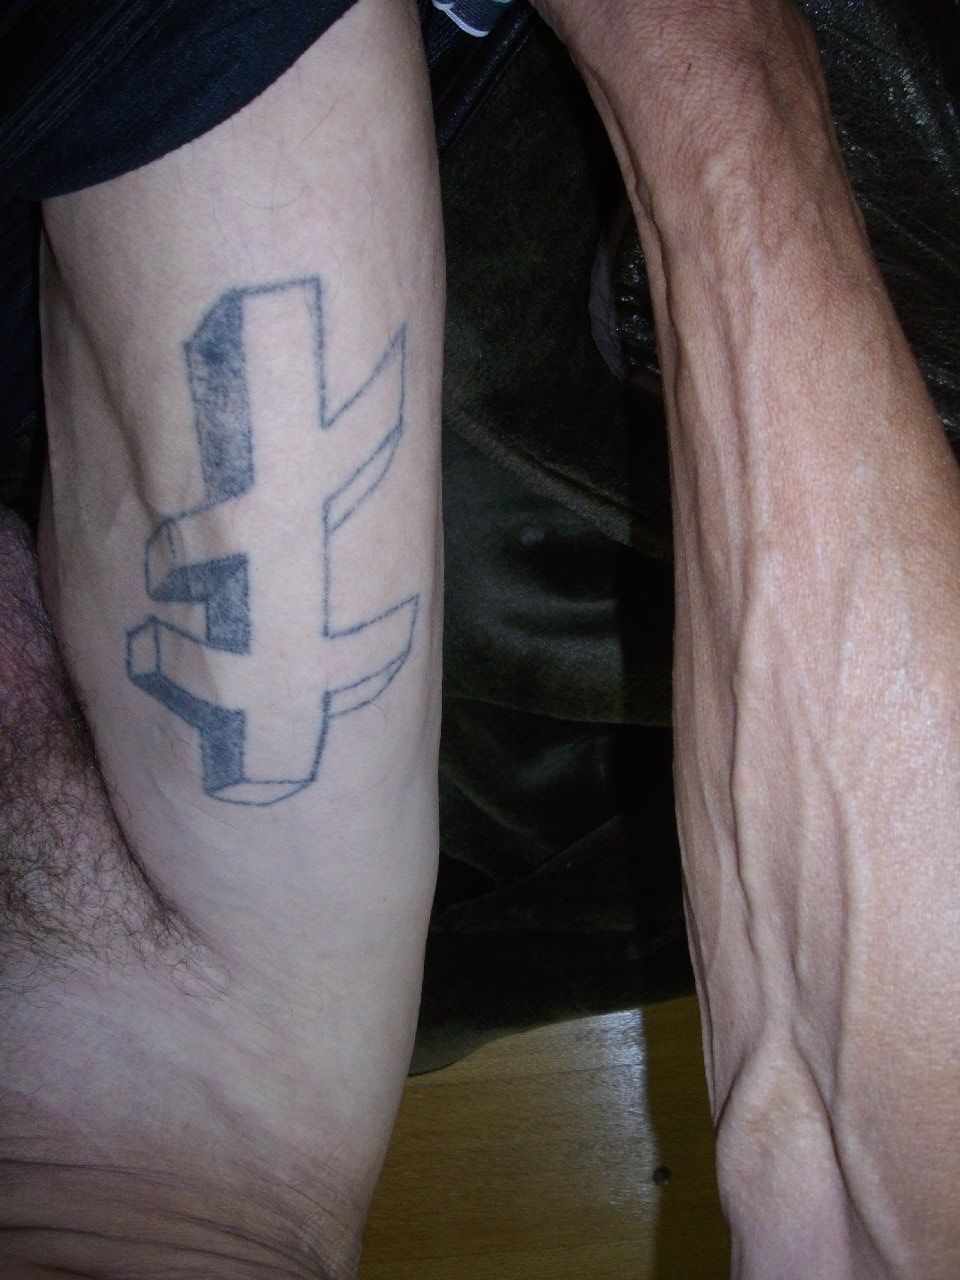tatu9_krest: (122, 262, 407, 819)
